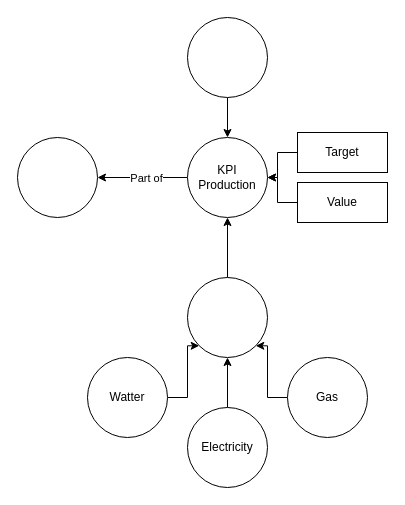
Image size: 405x505. Some labels were removed from this diagram. Here are the shapes that lost their labels. From the top down, the box of each, then its label:
(186, 16, 268, 98): Production
(16, 136, 98, 218): KPI
(186, 276, 268, 358): Energy source
